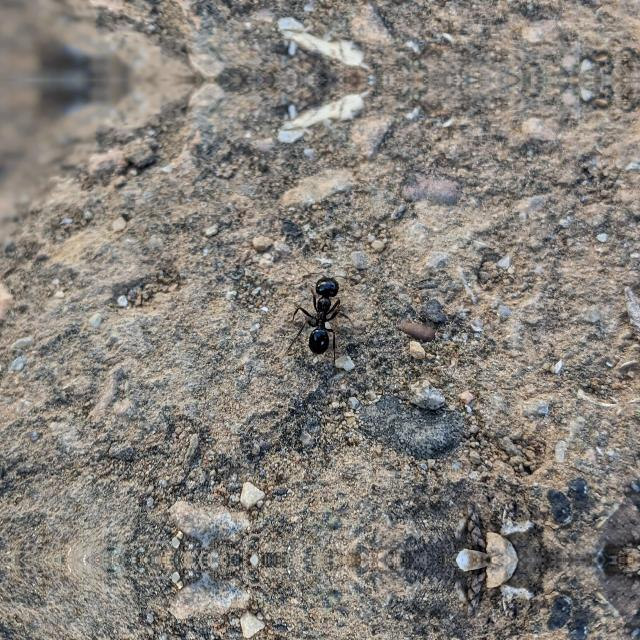Messor: (294, 268, 346, 360)
